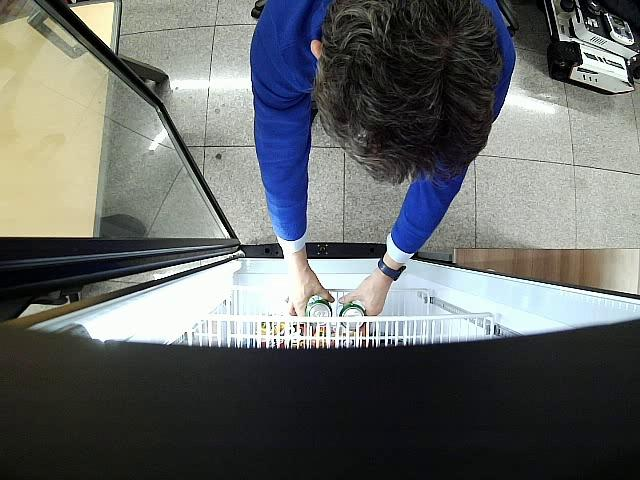00_hand: (284, 258, 335, 316), (338, 271, 392, 315)
12_chilsungCider: (305, 295, 332, 326), (340, 301, 367, 332)
